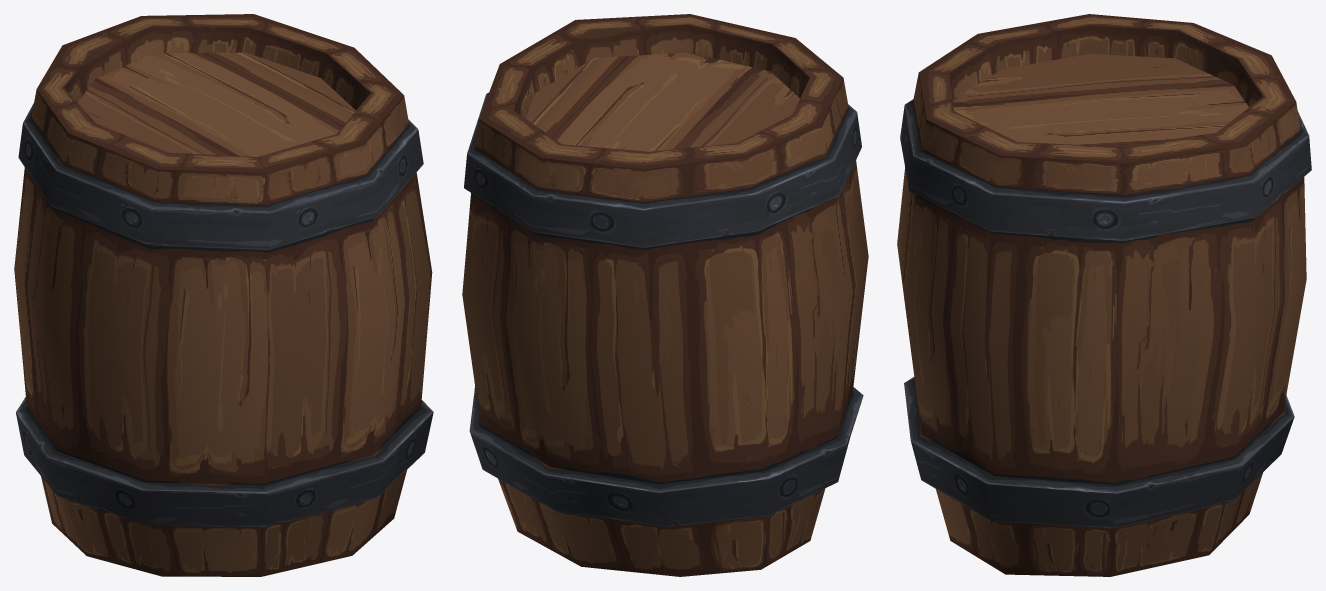
File: SM_PROP_barrel_interior_01.fbx
3 views of the same model, side by side, from view 1: azimuth 30°, elevation 25°; view 2: azimuth 150°, elevation 25°; view 3: azimuth 270°, elevation 25° (orthographic).
Visible parts, largest first — view 1: SM_PROP_barrel_interior_01; view 2: SM_PROP_barrel_interior_01; view 3: SM_PROP_barrel_interior_01.
Part boxes in pixels (x1,y1,x2,y2): SM_PROP_barrel_interior_01: (14, 14, 433, 576); SM_PROP_barrel_interior_01: (462, 14, 868, 576); SM_PROP_barrel_interior_01: (897, 14, 1311, 576).
Size of the model in its own units: 74.56 by 85.05 by 75.11.
